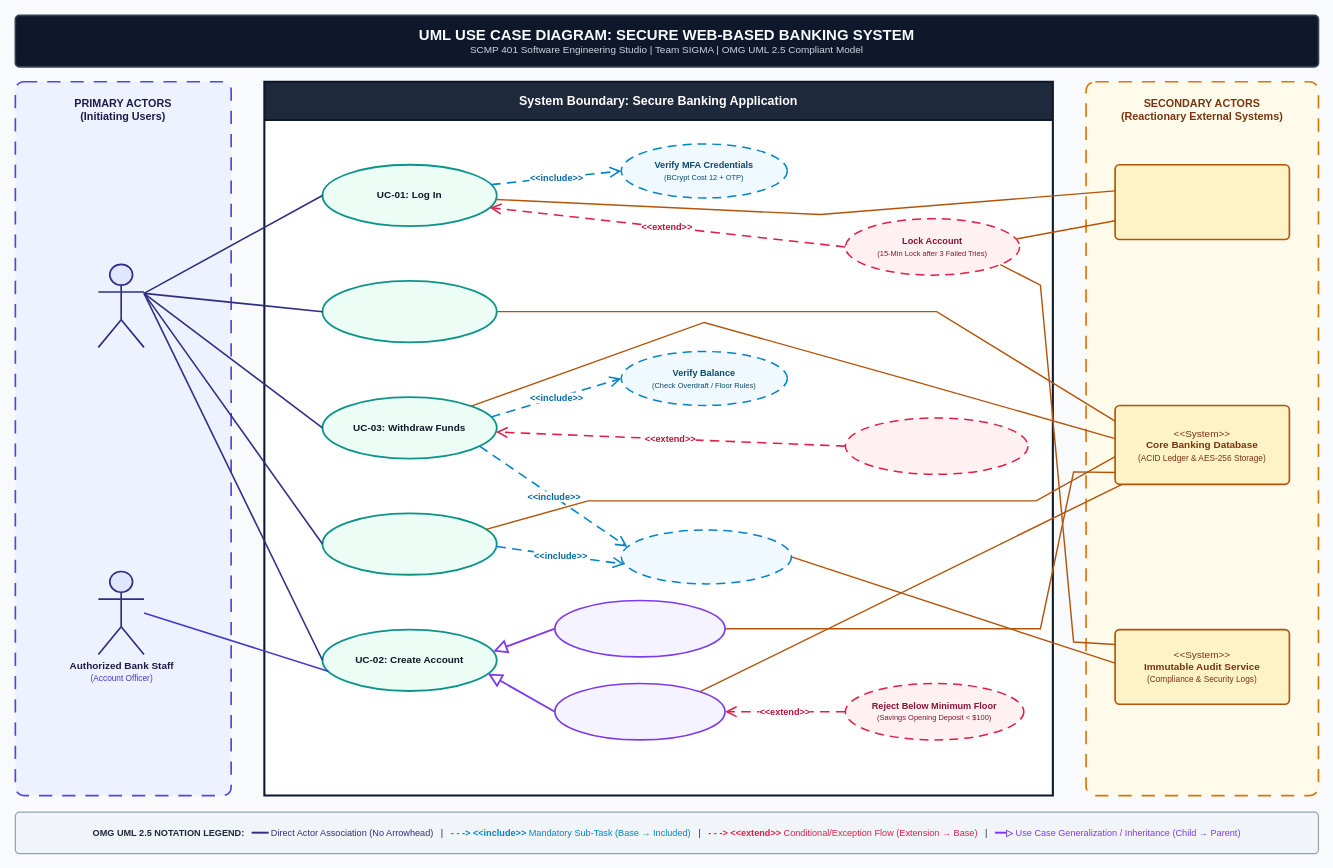
The diagram is 1333 pixels wide and 868 high, and some of its shapes have lost their labels. The shapes that lost their labels are listed below. From the top down, each one's centre as x and y in pixels, then its label:
the point at 1202,202: <<System>> Authentication Server (BCrypt Cost 12 & MFA OTP)
the point at 120,305: Customer (Primary Initiating Actor)
the point at 409,311: UC-04: Check Balance
the point at 936,446: Display Overdraft / Floor Warning (Rollback & ERR_INSUFFICIENT_FUNDS)
the point at 409,543: UC-05: Deposit Funds
the point at 706,556: Record Immutable Audit Log (UTC Timestamp & User ID)
the point at 639,628: Create Current Account (Overdraft L_max = $500)
the point at 639,711: Create Savings Account (r = 2.5%, Floor B_min = $100)
